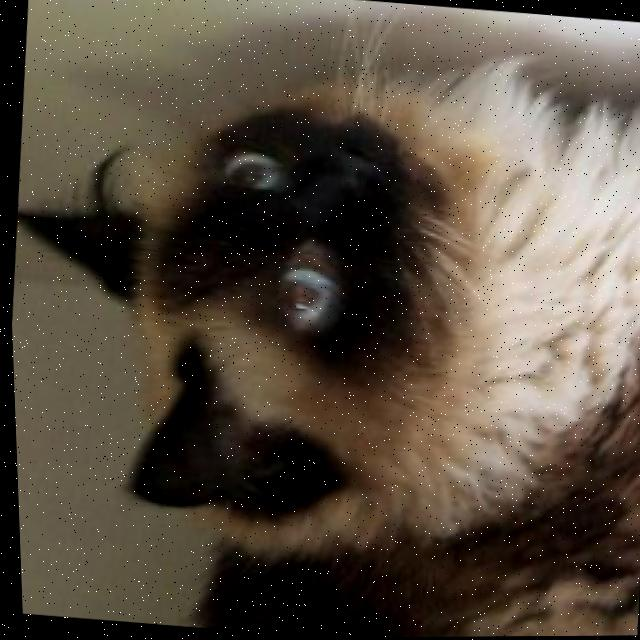Birman: (0, 2, 640, 640)
